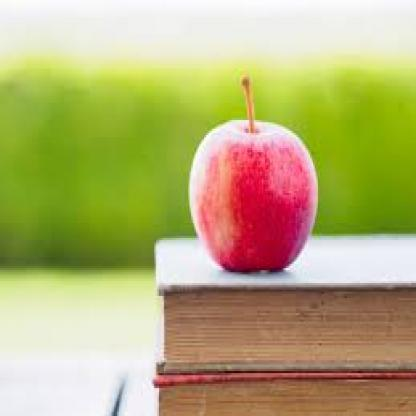apple: (188, 116, 321, 253)
